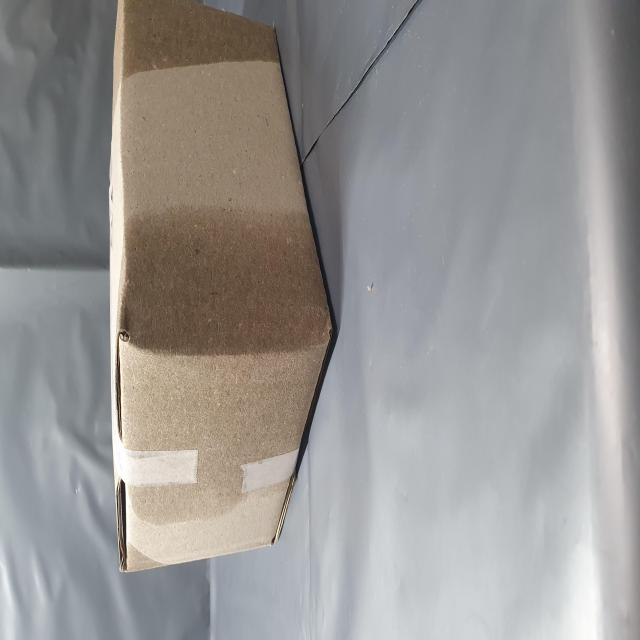wet: (71, 209, 253, 575), (307, 200, 360, 524)
